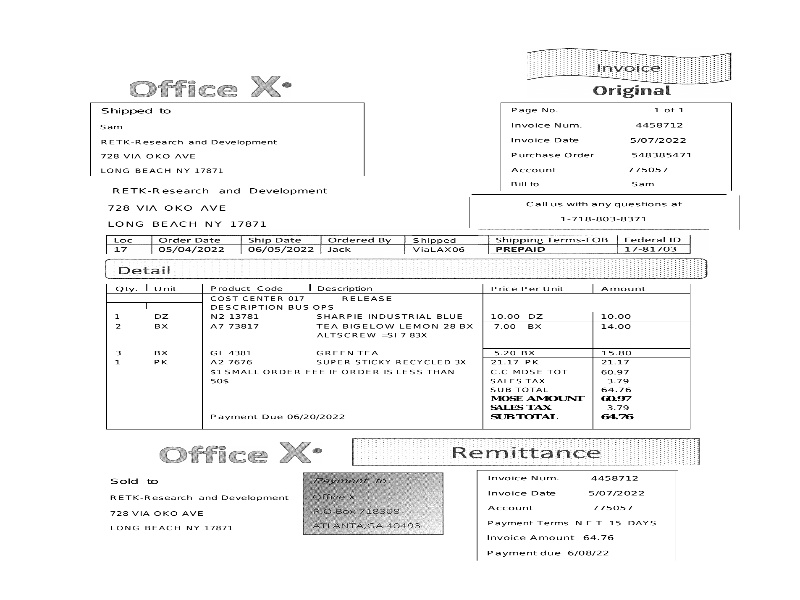Bordered: (108, 280, 690, 429)
